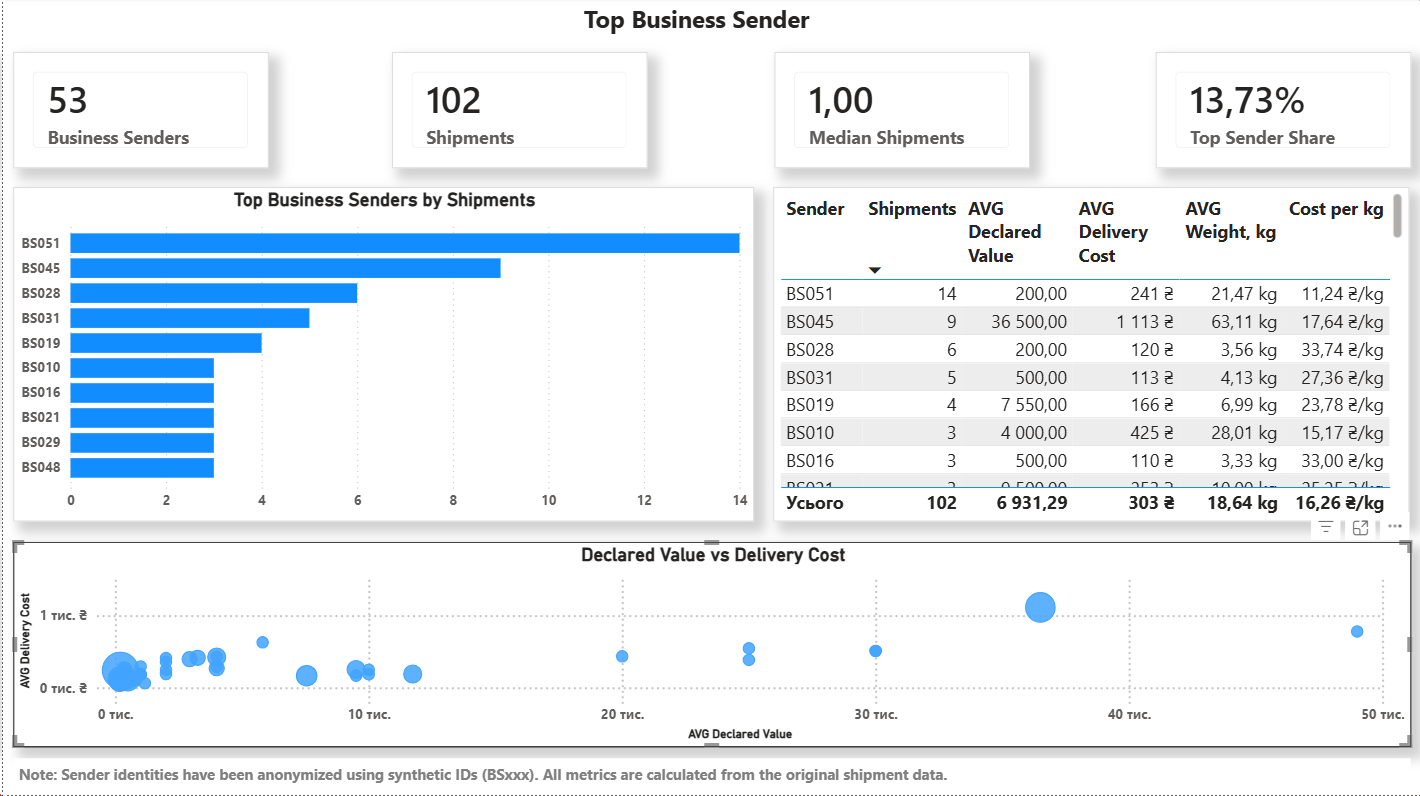

The page's visual inventory and layout, read from the dashboard file:
{"tool":"powerbi","page":{"name":"Top Business Sender","canvas":[1280,720],"ordinal":1},"visuals":[{"type":"cardVisual","fields":{"Data":["_Measures.Business_senders"]},"box":[9.6,49.4,230,105],"z":0},{"type":"cardVisual","fields":{"Data":["_Measures.Shipments"]},"box":[352.2,49.4,230,105],"z":1000},{"type":"cardVisual","fields":{"Data":["_Measures.Median_shipments_per_sender"]},"box":[696.2,49.4,230,105],"z":2000},{"type":"clusteredBarChart","title":"Top Business Senders by Shipments","fields":{"Category":["Dim_business_sender.sender_public"],"Y":["_Measures.Shipments"]},"box":[9.6,171.5,668.3,301.9],"z":3000},{"type":"cardVisual","fields":{"Data":["_Measures.Top Sender Share"]},"box":[1040.1,49.4,230,105],"z":4000},{"type":"tableEx","fields":{"Values":["Dim_business_sender.sender_public","_Measures.Shipments","_Measures.AVG_Declared_Value","_Measures.AVG_Delivery_Cost","_Measures.AVG_Weight","_Measures.Cost_per_kg"]},"box":[695.7,171.5,573.6,301.9],"z":5000},{"type":"scatterChart","title":"Declared Value vs Delivery Cost","fields":{"Category":["Dim_business_sender.sender_public"],"Size":["_Measures.Shipments"],"X":["_Measures.AVG_Declared_Value"],"Y":["_Measures.AVG_Delivery_Cost"]},"box":[9.6,491.3,1261.1,185.2],"z":6000},{"type":"textbox","box":[520.1,0,240.1,39.8],"z":7000},{"type":"textbox","box":[9.6,686.1,1259.7,34.3],"z":8000}]}

Visuals, with their boxes in screenshot pixels (x1, y1, x2, y2), scaled from the page's 1280x720 canvas onto the 1420x796 screenshot:
cardVisual - _Measures.Business_senders: 11, 55, 266, 171
cardVisual - _Measures.Shipments: 391, 55, 646, 171
cardVisual - _Measures.Median_shipments_per_sender: 772, 55, 1028, 171
"Top Business Senders by Shipments" clusteredBarChart: 11, 190, 752, 523
cardVisual - _Measures.Top Sender Share: 1154, 55, 1409, 171
tableEx - Dim_business_sender.sender_public x _Measures.Shipments: 772, 190, 1408, 523
"Declared Value vs Delivery Cost" scatterChart: 11, 543, 1410, 748
textbox: 577, 0, 843, 44
textbox: 11, 759, 1408, 795
